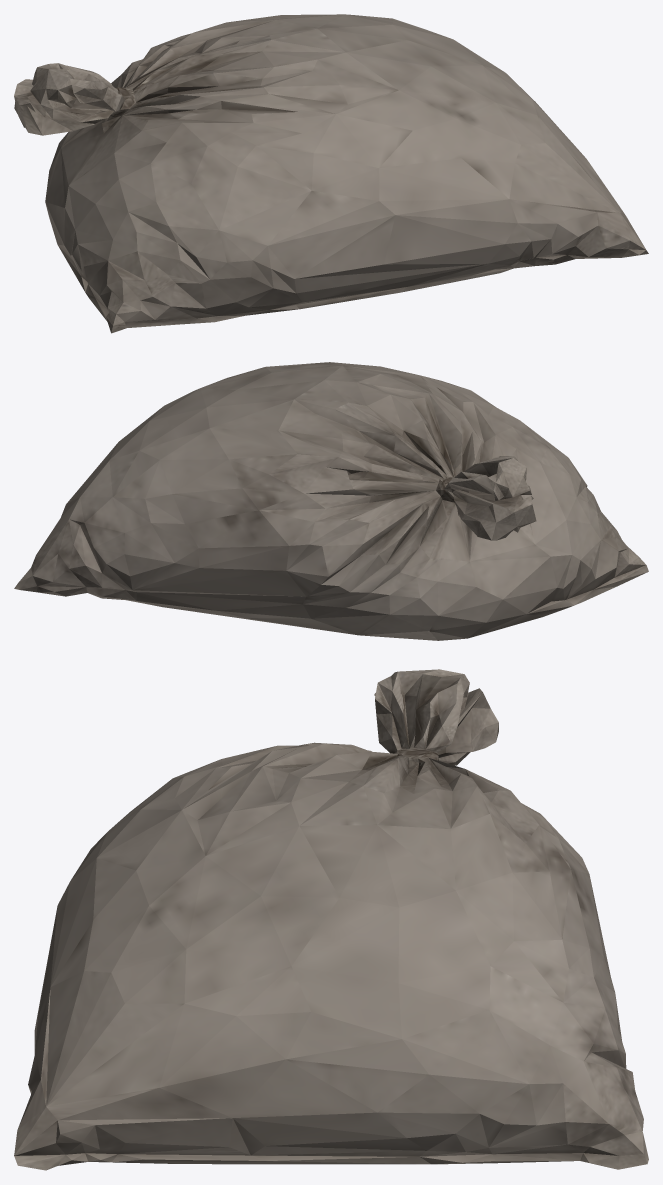
The model's file is DR_AsphaltMix.fbx.
3 renders of one model, top to bottom at view 1: azimuth 30°, elevation 25°; view 2: azimuth 150°, elevation 25°; view 3: azimuth 270°, elevation 25°, orthographic. The views are drawn at different scales.
Parts seen in each view (by area): view 1: part; view 2: part; view 3: part.
Boxes of the visible parts, x1,y1,x2,y2 form: part: (14,14,648,333); part: (14,362,648,640); part: (14,669,648,1170).
Bounding box in the file's own units: 60.01 × 22.05 × 52.79.
